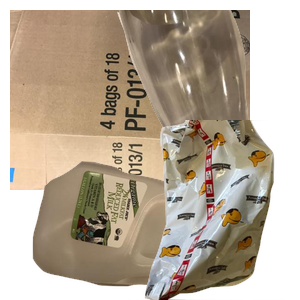cardboard: (10, 10, 250, 190)
glass: (115, 10, 300, 190)
plastic: (30, 159, 247, 300)
trash: (127, 120, 300, 300)
